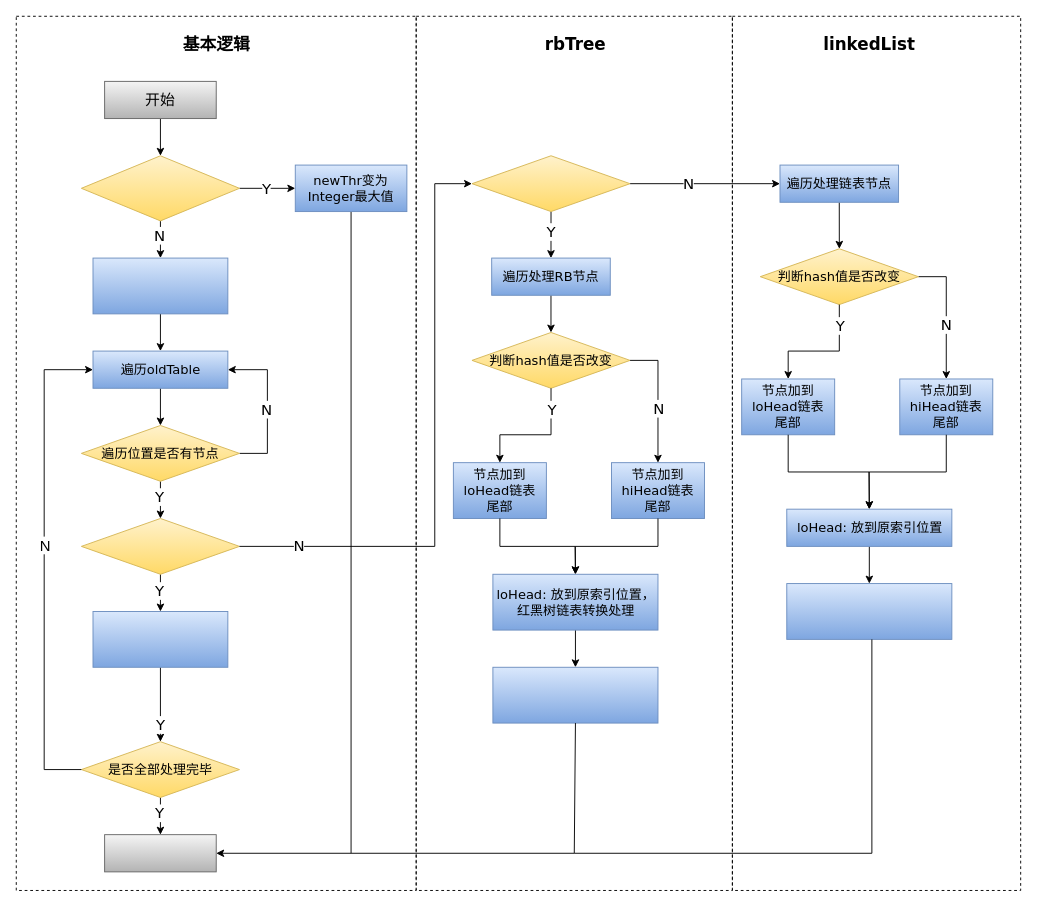
Image size: 1037x907. Some labels were removed from this diagram. Here are the shapes that lost their labels. From the top down, the centre of each, then its label:
the point at 159,188: oldTable的Cap 超过上限
the point at 550,183: 是否为红黑树节点
the point at 160,285: Cap和Thr扩大为2倍 table指向newTable
the point at 159,546: 是否只有1个节点
the point at 869,611: hiHead: 放到原索引 + oldCap 位置
the point at 160,639: 计算该节点在newTable的索引位置，放到newTable
the point at 575,694: hiHead: 放到原索引 + oldCap 位置，红黑树链表转换处理
the point at 160,853: 结束
